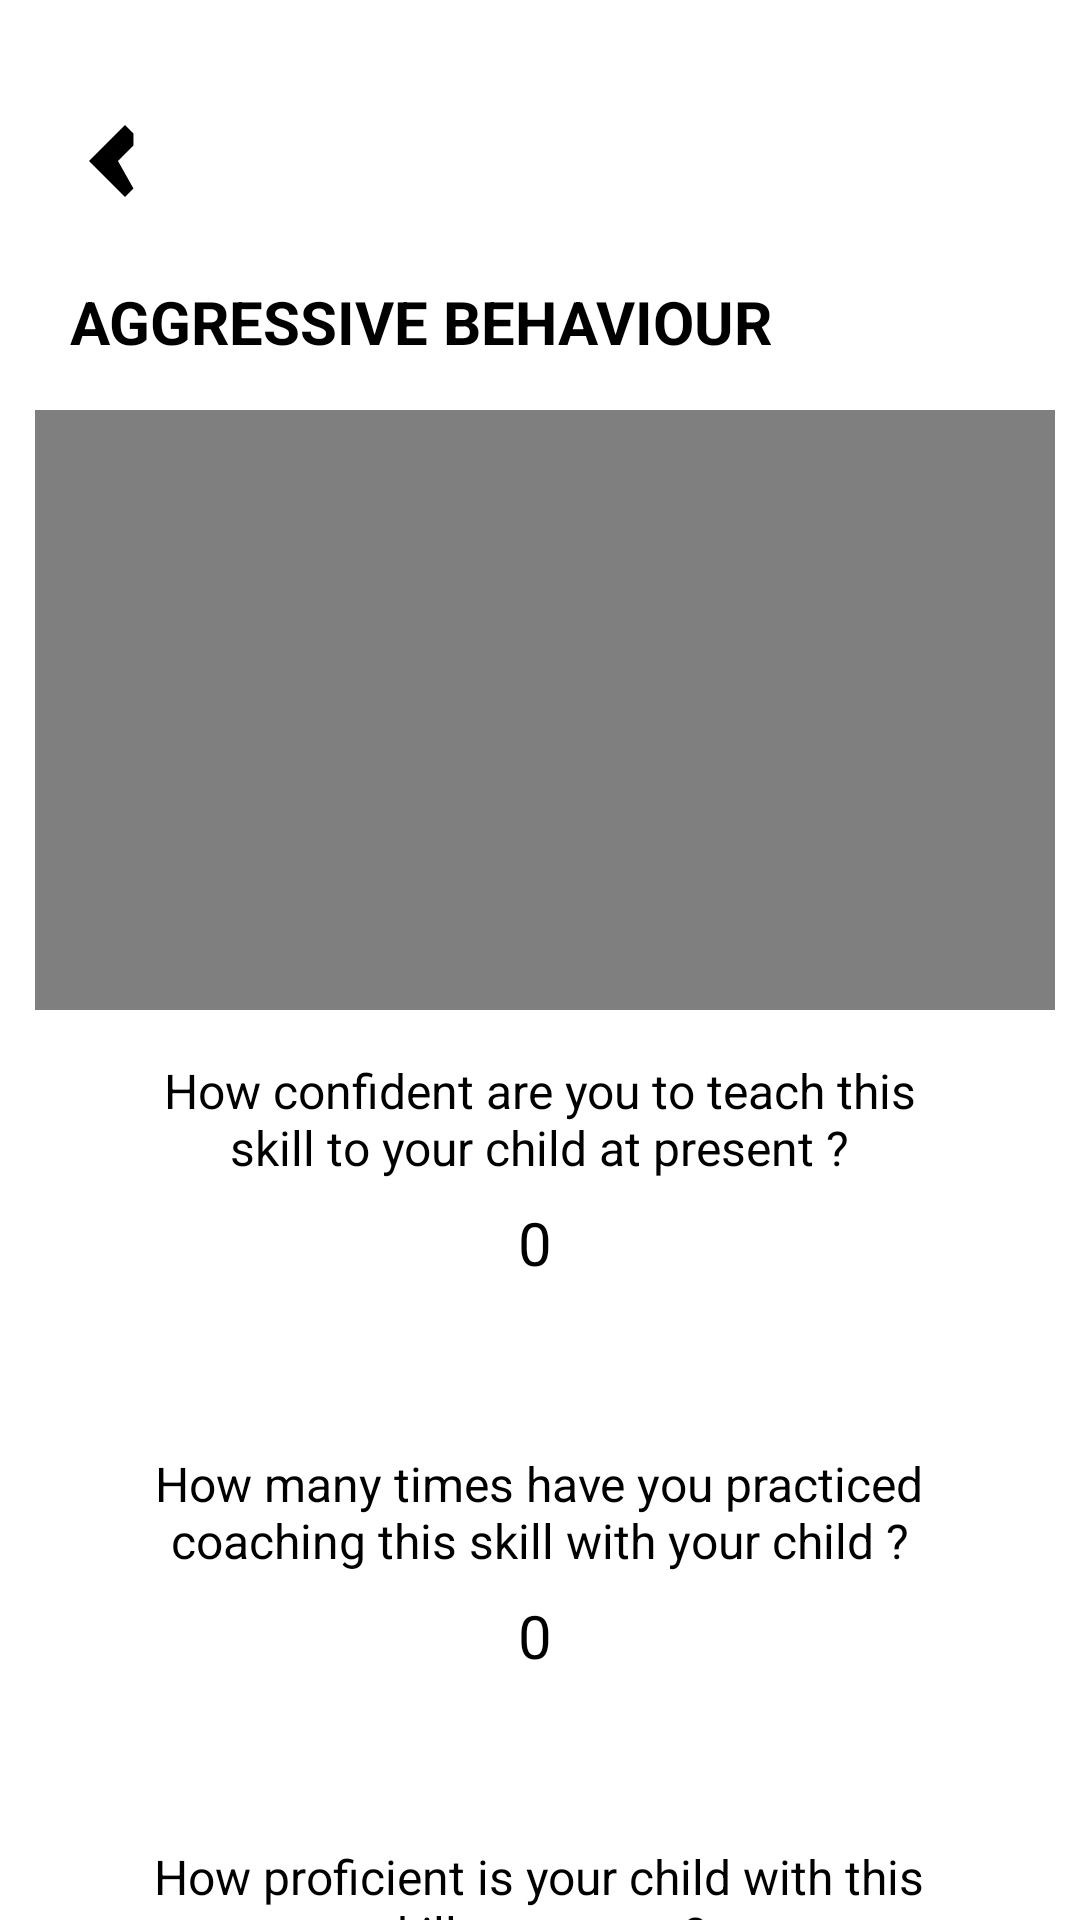

Screen size 1080px×1920px. Icon name, then its center in pixels as [x,y]:
back: [111,161]
